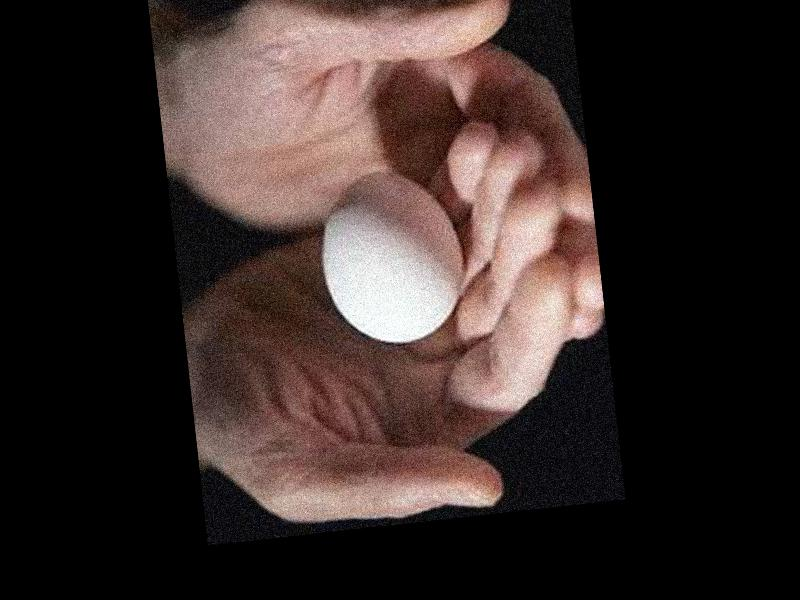Eggs: (312, 165, 469, 351)
